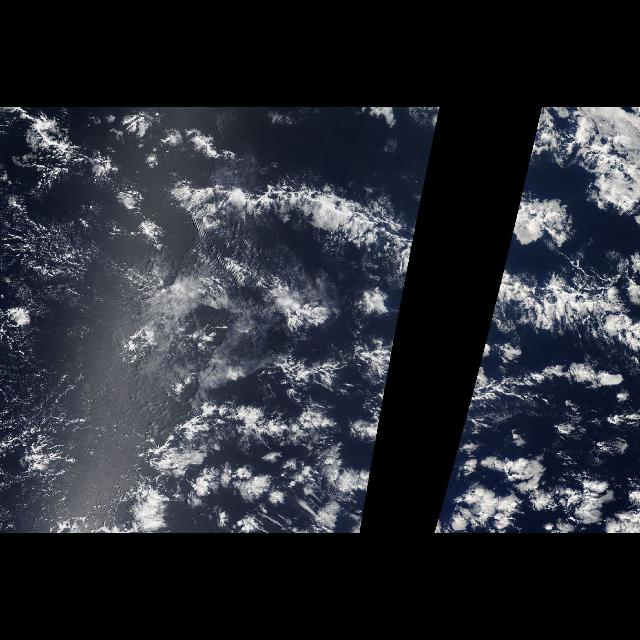Fish: (147, 164, 429, 530), (432, 164, 638, 530)
Flower: (69, 113, 443, 533), (432, 113, 636, 533)
Sugar: (2, 196, 118, 506)
